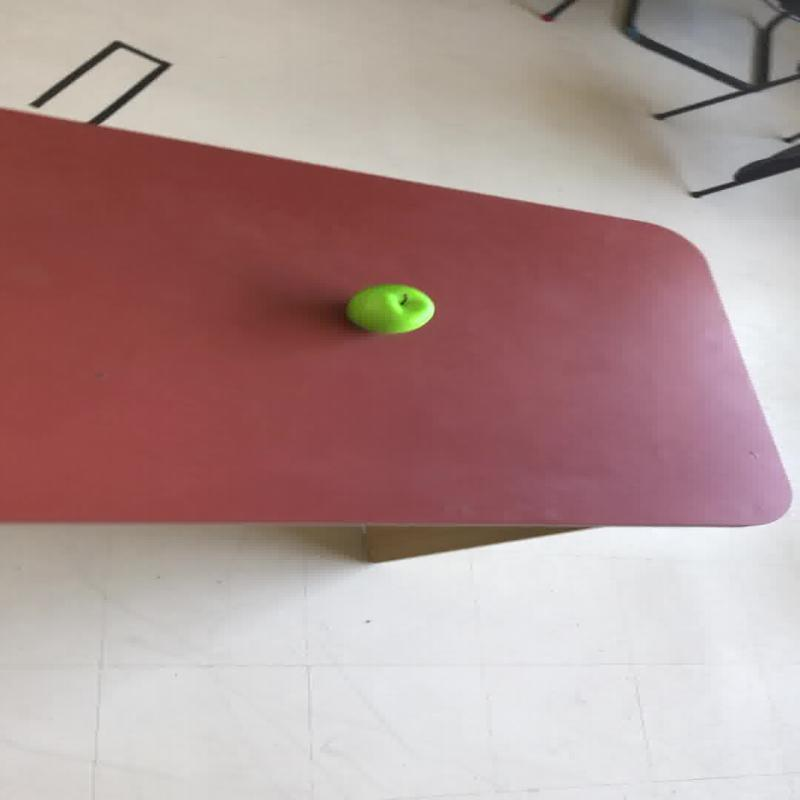apple: (343, 283, 435, 334)
